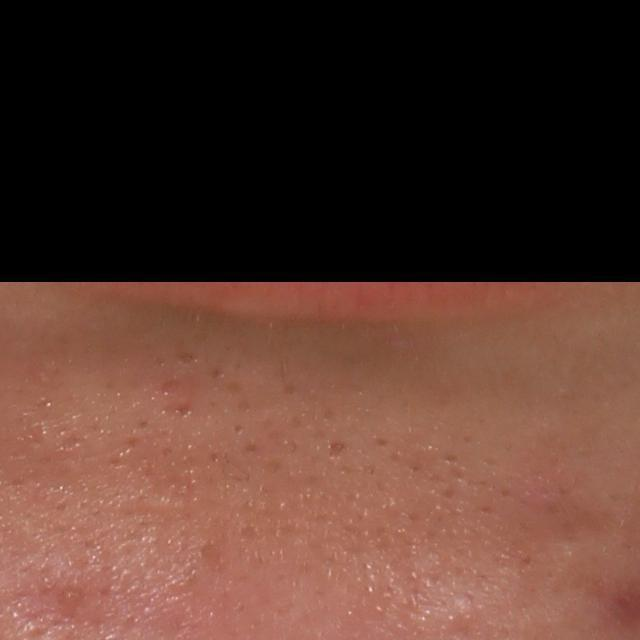atrophic_scar: (326, 438, 350, 459)
